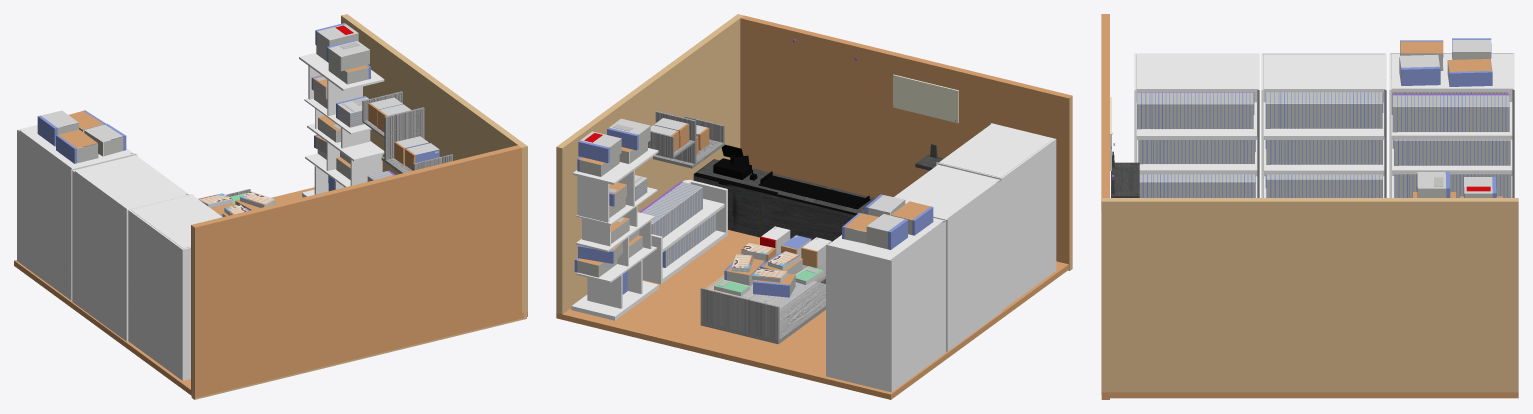
File: work_model2.glb
3 views of the same model, side by side, from view 1: azimuth 30°, elevation 25°; view 2: azimuth 150°, elevation 25°; view 3: azimuth 270°, elevation 25° (orthographic). The views are drawn at different scales.
Parts seen in each view (by area): view 1: Cube; view 2: Cube; view 3: Cube.
Part boxes in pixels (box(x1,y1,x2,y2)): Cube: box(14, 14, 527, 399); Cube: box(556, 14, 1072, 399); Cube: box(1101, 14, 1518, 399).
Bounding box in the file's own units: 21.53 × 10.73 × 20.23.
18 materials, 3 textured.
